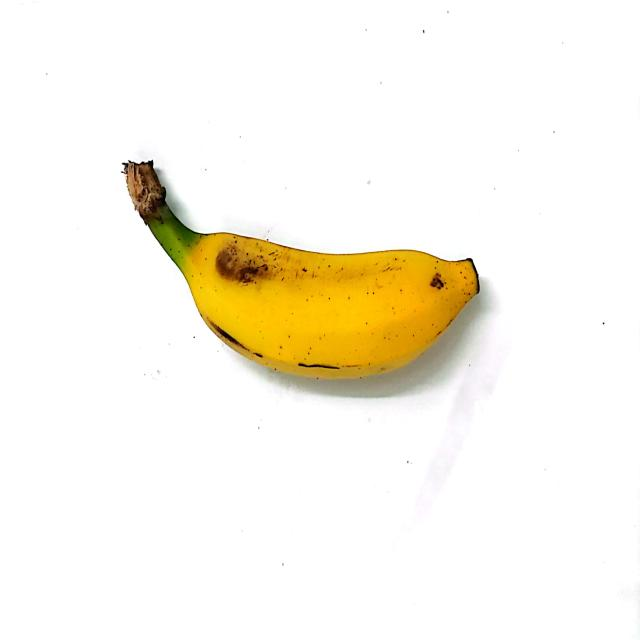fresh_banana: (124, 159, 480, 382)
